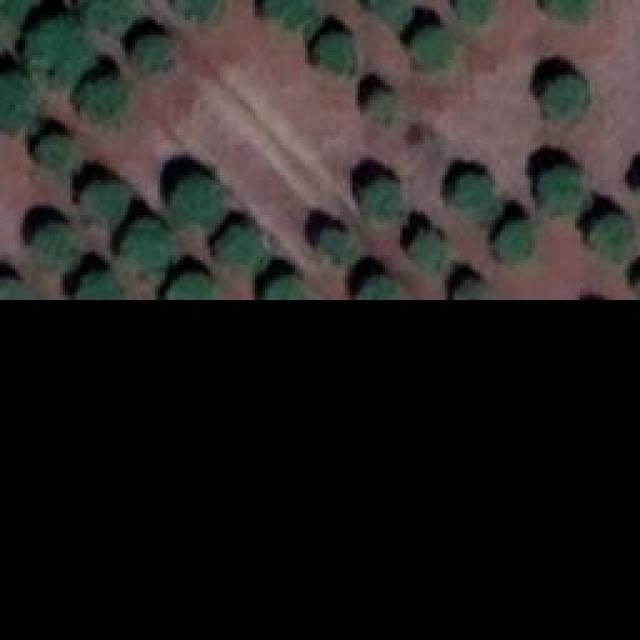Tree: (25, 15, 90, 80), (165, 170, 220, 225), (210, 220, 268, 270), (118, 218, 173, 268), (70, 70, 123, 120), (532, 163, 580, 216), (0, 68, 38, 133), (358, 175, 403, 223), (28, 133, 78, 176), (83, 175, 126, 225), (410, 25, 453, 75), (38, 217, 81, 265), (450, 170, 495, 213), (130, 30, 173, 73), (315, 33, 360, 73), (585, 213, 630, 253), (78, 0, 133, 30), (163, 273, 228, 298), (542, 75, 580, 115), (75, 270, 125, 300), (317, 227, 355, 265), (263, 0, 316, 25), (175, 0, 225, 25), (353, 275, 406, 298), (263, 273, 308, 298), (495, 223, 528, 256), (413, 230, 443, 265), (452, 273, 490, 298), (365, 88, 395, 118), (455, 0, 495, 22), (0, 0, 42, 20)
